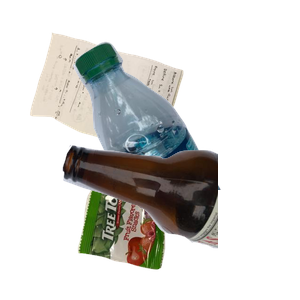glass: (60, 142, 300, 300)
paper: (27, 30, 203, 178)
plastic: (71, 39, 300, 219)
trash: (75, 156, 244, 300)
